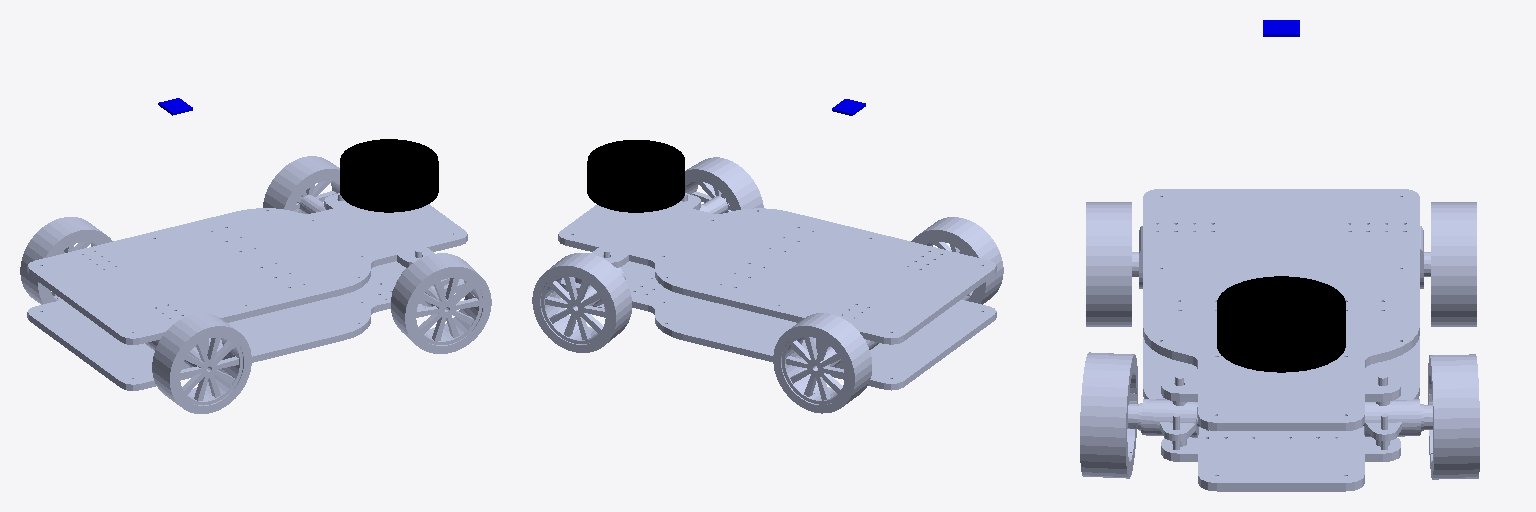
robot.urdf — ackermann_robot:
<?xml version="1.0" encoding="utf-8"?>
<!-- This URDF was automatically created by SolidWorks to URDF Exporter! Originally created by [author] ([email redacted]) 
     Commit Version: 1.6.0-1-g15f4949  Build Version: 1.6.7594.29634
     For more information, please see http://wiki.ros.org/sw_urdf_exporter -->
<robot name="ackermann_robot">
  
  <!--gazebo>
    <plugin name="gazebo_ros_control" filename="libgazebo_ros_control.so">
      <robotNamespace>/ackermann_model</robotNamespace>
    </plugin>
  </gazebo-->
  <link name="base_link">
    <inertial>
      <origin xyz="8.858E-05 -1.9843E-06 0.020487" rpy="0 0 0" />
      <mass value="0.3999" />
      <inertia
        ixx="0.00065026"
        ixy="-8.0029E-08"
        ixz="-1.4859E-21"
        iyy="0.0027365"
        iyz="-1.4915E-21"
        izz="0.0033851" />
    </inertial>

    <visual>
      <origin xyz="0 0 0" rpy="0 0 0" />
      <geometry>
        <mesh filename="package://ackermann_robot_description/meshes/base_link.STL" />
      </geometry>
      <material name="">
        <color rgba="0.79216 0.81961 0.93333 1" />
      </material>
    </visual>

    <collision>
      <origin xyz="0 0 0" rpy="0 0 0" />
      <geometry>
        <mesh filename="package://ackermann_robot_description/meshes/base_link.STL" />
      </geometry>
    </collision>
  </link>

  <link name="right_front_axle_carrier">
    <inertial>
      <origin xyz="0.0014472 -0.0045945 1.0684E-07" rpy="0 0 0" />
      <mass value="0.012162" />
      <inertia
        ixx="1.1801E-06"
        ixy="-7.7079E-08"
        ixz="-2.8872E-13"
        iyy="8.0582E-07"
        iyz="6.3391E-14"
        izz="1.3986E-06" />
    </inertial>
    <visual>
      <origin xyz="0 0 0" rpy="0 0 0" />
      <geometry>
        <mesh filename="package://ackermann_robot_description/meshes/right_front_axle_carrier.STL" />
      </geometry>
      <material name="">
        <color rgba="0.79216 0.81961 0.93333 1" />
      </material>
    </visual>
    <collision>
      <origin xyz="0 0 0" rpy="0 0 0" />
      <geometry>
        <mesh filename="package://ackermann_robot_description/meshes/right_front_axle_carrier.STL" />
      </geometry>
    </collision>
  </link>
  
  <joint name="right_steering_joint" type="revolute">
    <origin xyz="0.11246 -0.055004 0.020259" rpy="0 0 -0.10142" />
    <parent link="base_link" />
    <child link="right_front_axle_carrier" />
    <axis xyz="0 0 1" />
    <limit
      lower="-0.4"
      upper="0.5"
      effort="0.5"
      velocity="1" />
  </joint>
  <transmission name="right_steering_trans">
    <type>transmission_interface/SimpleTransmission</type>
    <joint name="right_steering_joint">
      <hardwareInterface>hardware_interface/EffortJointInterface</hardwareInterface>
    </joint>
    <actuator name="right_steering_act">
      <hardwareInterface>hardware_interface/EffortJointInterface</hardwareInterface>
      <mechanicalReduction>1</mechanicalReduction>
    </actuator>
  </transmission>

  <link name="right_front_wheel">
    <inertial>
      <origin xyz="0 -0.0032519 -9.2198E-17" rpy="0 0 0" />
      <mass value="0.04847" />
      <inertia
        ixx="2.1185E-05"
        ixy="1.3976E-20"
        ixz="-3.0394E-21"
        iyy="3.7185E-05"
        iyz="-3.4283E-20"
        izz="2.1185E-05" />
    </inertial>
    <visual>
      <origin xyz="0 0 0" rpy="0 0 0" />
      <geometry>
        <mesh filename="package://ackermann_robot_description/meshes/right_front_wheel.STL" />
      </geometry>
      <material name="">
        <color rgba="0.79216 0.81961 0.93333 1" />
      </material>
    </visual>
    <collision>
      <origin xyz="0 0 0" rpy="0 0 0" />
      <geometry>
        <mesh filename="package://ackermann_robot_description/meshes/right_front_wheel.STL" />
      </geometry>
    </collision>
  </link>
  <joint name="right_front_axle" type="continuous">
    <origin xyz="0 -0.0355 0" rpy="0 0 0" />
    <parent link="right_front_axle_carrier" />
    <child link="right_front_wheel" />
    <axis xyz="0 1 0" />
    <limit effort="5" velocity="110"/>
  </joint>
  <transmission name="right_front_axle_trans">
    <type>transmission_interface/SimpleTransmission</type>
    <joint name="right_front_axle">
      <hardwareInterface>hardware_interface/EffortJointInterface</hardwareInterface>
    </joint>
    <actuator name="right_front_axle_act">
      <hardwareInterface>hardware_interface/EffortJointInterface</hardwareInterface>
      <mechanicalReduction>1</mechanicalReduction>
    </actuator>
  </transmission>

  <link name="left_front_axle_carrier">
    <inertial>
      <origin xyz="0.0014472 0.0045945 -1.0684E-07" rpy="0 0 0" />
      <mass value="0.012162" />
      <inertia
        ixx="1.1801E-06"
        ixy="7.7079E-08"
        ixz="2.8872E-13"
        iyy="8.0582E-07"
        iyz="6.3391E-14"
        izz="1.3986E-06" />
    </inertial>
    <visual>
      <origin xyz="0 0 0" rpy="0 0 0" />
      <geometry>
        <mesh filename="package://ackermann_robot_description/meshes/left_front_axle_carrier.STL" />
      </geometry>
      <material name="">
        <color rgba="0.79216 0.81961 0.93333 1" />
      </material>
    </visual>
    <collision>
      <origin xyz="0 0 0" rpy="0 0 0" />
      <geometry>
        <mesh filename="package://ackermann_robot_description/meshes/left_front_axle_carrier.STL" />
      </geometry>
    </collision>
  </link>
  <joint name="left_steering_joint" type="revolute">
    <origin xyz="0.11246 0.054996 0.020303" rpy="0 0 0.049922" />
    <parent link="base_link" />
    <child link="left_front_axle_carrier" />
    <axis xyz="0 0 1" />
    <limit
      lower="-0.4"
      upper="0.5"
      effort="0.5"
      velocity="1" />
  </joint>
  <transmission name="left_steering_trans">
    <type>transmission_interface/SimpleTransmission</type>
    <joint name="left_steering_joint">
      <hardwareInterface>hardware_interface/EffortJointInterface</hardwareInterface>
    </joint>
    <actuator name="left_steering_act">
      <hardwareInterface>hardware_interface/EffortJointInterface</hardwareInterface>
      <mechanicalReduction>1</mechanicalReduction>
    </actuator>
  </transmission>
  
  <link name="left_front_wheel">
    <inertial>
      <origin xyz="2.7756E-17 0.0032519 9.3404E-17" rpy="0 0 0" />
      <mass value="0.04847" />
      <inertia
        ixx="2.1185E-05"
        ixy="-1.6517E-20"
        ixz="4.112E-21"
        iyy="3.7185E-05"
        iyz="-3.4164E-20"
        izz="2.1185E-05" />
    </inertial>
    <visual>
      <origin xyz="0 0 0" rpy="0 0 0" />
      <geometry>
        <mesh filename="package://ackermann_robot_description/meshes/left_front_wheel.STL" />
      </geometry>
      <material name="">
        <color rgba="0.79216 0.81961 0.93333 1" />
      </material>
    </visual>
    <collision>
      <origin xyz="0 0 0" rpy="0 0 0" />
      <geometry>
        <mesh filename="package://ackermann_robot_description/meshes/left_front_wheel.STL" />
      </geometry>
    </collision>
  </link>
  <joint name="left_front_axle" type="continuous">
    <origin xyz="0 0.0355 0" rpy="0 0 0" />
    <parent link="left_front_axle_carrier" />
    <child link="left_front_wheel" />
    <axis xyz="0 1 0" />
    <limit effort="5" velocity="110"/>
  </joint>
  <transmission name="left_front_axle_trans">
    <type>transmission_interface/SimpleTransmission</type>
    <joint name="left_front_axle">
      <hardwareInterface>hardware_interface/EffortJointInterface</hardwareInterface>
    </joint>
    <actuator name="left_front_axle_act">
      <hardwareInterface>hardware_interface/EffortJointInterface</hardwareInterface>
      <mechanicalReduction>1</mechanicalReduction>
    </actuator>
  </transmission>

  <link name="right_rear_axle_carrier">
    <inertial>
      <origin xyz="0 0.02273 0.0026785" rpy="0 0 0" />
      <mass value="0.032121" />
      <inertia
        ixx="8.4438E-06"
        ixy="9.7303E-22"
        ixz="-1.6257E-22"
        iyy="2.811E-06"
        iyz="-4.3914E-07"
        izz="8.6197E-06" />
    </inertial>
    <visual>
      <origin xyz="0 0 0" rpy="0 0 0" />
      <geometry>
        <mesh filename="package://ackermann_robot_description/meshes/right_rear_axle_carrier.STL" />
      </geometry>
      <material name="">
        <color rgba="0.79216 0.81961 0.93333 1" />
      </material>
    </visual>
    <collision>
      <origin xyz="0 0 0" rpy="0 0 0" />
      <geometry>
        <mesh filename="package://ackermann_robot_description/meshes/right_rear_axle_carrier.STL" />
      </geometry>
    </collision>
  </link>
  <joint name="right_rear_fixed" type="fixed">
    <origin xyz="-0.087539 -0.074004 0.019" rpy="0 0 0" />
    <parent link="base_link" />
    <child link="right_rear_axle_carrier" />
    <axis xyz="0 0 0" />
  </joint>
  <link name="right_rear_wheel">
    <inertial>
      <origin xyz="1.3878E-17 -0.0032519 -1.0387E-16" rpy="0 0 0" />
      <mass value="0.04847" />
      <inertia
        ixx="2.1185E-05"
        ixy="1.7085E-20"
        ixz="-4.3879E-21"
        iyy="3.7185E-05"
        iyz="-3.5493E-20"
        izz="2.1185E-05" />
    </inertial>
    <visual>
      <origin xyz="0 0 0" rpy="0 0 0" />
      <geometry>
        <mesh filename="package://ackermann_robot_description/meshes/right_rear_wheel.STL" />
      </geometry>
      <material name="">
        <color rgba="0.79216 0.81961 0.93333 1" />
      </material>
    </visual>
    <collision>
      <origin xyz="0 0 0" rpy="0 0 0" />
      <geometry>
        <mesh filename="package://ackermann_robot_description/meshes/right_rear_wheel.STL" />
      </geometry>
    </collision>
  </link>
  <joint name="right_rear_axle" type="continuous">
    <origin xyz="0 -0.0165 0" rpy="0 0 0" />
    <parent link="right_rear_axle_carrier" />
    <child link="right_rear_wheel" />
    <axis xyz="0 1 0" />
    <limit effort="5" velocity="110"/>
  </joint>
  <transmission name="right_rear_axle_trans">
    <type>transmission_interface/SimpleTransmission</type>
    <joint name="right_rear_axle">
      <hardwareInterface>hardware_interface/EffortJointInterface</hardwareInterface>
    </joint>
    <actuator name="right_rear_axle_act">
      <hardwareInterface>hardware_interface/EffortJointInterface</hardwareInterface>
      <mechanicalReduction>1</mechanicalReduction>
    </actuator>
  </transmission>

  <link name="left_rear_axle_carrier">
    <inertial>
      <origin xyz="2.7756E-17 -0.02273 0.0026785" rpy="0 0 0" />
      <mass value="0.032121" />
      <inertia
        ixx="8.4438E-06"
        ixy="7.4384E-22"
        ixz="2.7615E-22"
        iyy="2.811E-06"
        iyz="4.3914E-07"
        izz="8.6197E-06" />
    </inertial>
    <visual>
      <origin xyz="0 0 0" rpy="0 0 0" />
      <geometry>
        <mesh filename="package://ackermann_robot_description/meshes/left_rear_axle_carrier.STL" />
      </geometry>
      <material name="">
        <color rgba="0.79216 0.81961 0.93333 1" />
      </material>
    </visual>
    <collision>
      <origin xyz="0 0 0" rpy="0 0 0" />
      <geometry>
        <mesh filename="package://ackermann_robot_description/meshes/left_rear_axle_carrier.STL" />
      </geometry>
    </collision>
  </link>
  <joint name="left_rear_fixed" type="fixed">
    <origin xyz="-0.087539 0.073996 0.019" rpy="0 0 0" />
    <parent link="base_link" />
    <child link="left_rear_axle_carrier" />
    <axis xyz="0 0 0" />
  </joint>
  <link name="left_rear_wheel">
    <inertial>
      <origin xyz="5.5511E-17 0.0032519 -8.305E-17" rpy="0 0 0" />
      <mass value="0.04847" />
      <inertia
        ixx="2.1185E-05"
        ixy="-1.6287E-20"
        ixz="5.7903E-21"
        iyy="3.7185E-05"
        iyz="-3.7913E-20"
        izz="2.1185E-05" />
    </inertial>
    <visual>
      <origin xyz="0 0 0" rpy="0 0 0" />
      <geometry>
        <mesh filename="package://ackermann_robot_description/meshes/left_rear_wheel.STL" />
      </geometry>
      <material name="">
        <color rgba="0.79216 0.81961 0.93333 1" />
      </material>
    </visual>
    <collision>
      <origin xyz="0 0 0" rpy="0 0 0" />
      <geometry>
        <mesh filename="package://ackermann_robot_description/meshes/left_rear_wheel.STL" />
      </geometry>
    </collision>
  </link>
  <joint name="left_rear_axle" type="continuous">
    <origin xyz="0 0.0165 0" rpy="0 0 0" />
    <parent link="left_rear_axle_carrier" />
    <child link="left_rear_wheel" />
    <axis xyz="0 1 0" />
    <limit effort="5" velocity="110"/>
  </joint>
  <transmission name="left_rear_axle_trans">
    <type>transmission_interface/SimpleTransmission</type>
    <joint name="left_rear_axle">
      <hardwareInterface>hardware_interface/EffortJointInterface</hardwareInterface>
    </joint>
    <actuator name="left_rear_axle_act">
      <hardwareInterface>hardware_interface/EffortJointInterface</hardwareInterface>
      <mechanicalReduction>1</mechanicalReduction>
    </actuator>
  </transmission>

  <link name="imu_link">
    <inertial>
      <origin xyz="0.0 0.0 0.0" rpy="0 0 0"/>
      <mass value="0.01"/>
      <inertia ixx="0.0001" ixy="0.0" ixz="0.0" iyy="0.0001" iyz="0.0" izz="0.0001" />
    </inertial>
    <visual>
      <origin xyz="0.0 0 0.0" rpy="0 0 0"/>
      <geometry>
        <box size="0.017 0.020 0.002"/>
      </geometry>
      <material name="">
        <color rgba="0 0 1.0 1"/>
      </material>
    </visual>
    <collision>    
      <origin xyz="0.0 0 0.0" rpy="0 0 0"/>
      <geometry>
        <box size="0.017 0.020 0.002"/>
      </geometry>
    </collision>
  </link>
  <joint name="joint_imu" type="fixed">
    <origin xyz = "-0.055 0 0.175" rpy="0 0 0"/>
    <parent link="base_link"/>
    <child link="imu_link"/>
  </joint>

  
  <link name="base_scan">
    <visual>
      <origin xyz="0 0 0.0" rpy="0 0 0"/>
      <geometry>
        <cylinder radius="0.035" length="0.025"/>/>
      </geometry>
      <material name="">
        <color rgba="0.0 0.0 0.0 1.0"/>
      </material>
    </visual>

    <collision>
      <origin xyz="0.015 0 -0.0065" rpy="0 0 0"/>
      <geometry>
        <cylinder length="0.035" radius="0.025"/>
      </geometry>
    </collision>

    <inertial>
      <mass value="0.114" />
      <origin xyz="0 0 0" />
      <inertia ixx="0.001" ixy="0.0" ixz="0.0"
               iyy="0.001" iyz="0.0"
               izz="0.001" />
    </inertial>
  </link>
  <joint name="scan_joint" type="fixed">
    <parent link="base_link"/>
    <child link="base_scan"/>
    <origin xyz="0.12 0 0.08" rpy="0 0 0.0"/>
  </joint>
</robot>

--- What the picture shows (computed from the rendered views, not written in the file) ---
The picture shows the robot from 3 angles, left to right: view 1: azimuth 30°, elevation 25°; view 2: azimuth 150°, elevation 25°; view 3: azimuth 270°, elevation 25°; orthographic projection.
Robot: ackermann_robot — 11 links, 10 joints (2 revolute, 4 continuous, 4 fixed); root link base_link; default pose: all joints at 0.
Visible links, largest first — view 1: base_link, right_rear_wheel, right_front_wheel, base_scan, left_front_wheel, left_rear_wheel; view 2: base_link, left_rear_wheel, left_front_wheel, base_scan, right_front_wheel, right_rear_wheel; view 3: base_link, base_scan, right_front_wheel, left_front_wheel, right_rear_wheel, left_rear_wheel, right_front_axle_carrier, left_front_axle_carrier, imu_link.
Boxes of the visible links, x1,y1,x2,y2 form: base_link: (27, 194, 467, 390); right_rear_wheel: (152, 313, 251, 413); right_front_wheel: (391, 253, 491, 353); base_scan: (340, 139, 438, 212); left_front_wheel: (263, 156, 339, 213); left_rear_wheel: (20, 217, 112, 304); base_link: (558, 194, 996, 390); left_rear_wheel: (773, 313, 871, 413); left_front_wheel: (532, 253, 631, 352); base_scan: (587, 140, 684, 212); right_front_wheel: (685, 157, 763, 213); right_rear_wheel: (911, 217, 1003, 304); base_link: (1143, 189, 1419, 491); base_scan: (1217, 276, 1345, 372); right_front_wheel: (1080, 352, 1138, 478); left_front_wheel: (1424, 354, 1479, 479); right_rear_wheel: (1086, 202, 1138, 326); left_rear_wheel: (1424, 202, 1476, 326); right_front_axle_carrier: (1138, 375, 1199, 449); left_front_axle_carrier: (1363, 375, 1423, 449); imu_link: (1263, 20, 1299, 36).
Bounding box of the posed robot: 0.3 × 0.2168 × 0.1907 m (x, y, z).
9 mesh visuals loaded from 9 distinct referenced files (9 binary STL).
